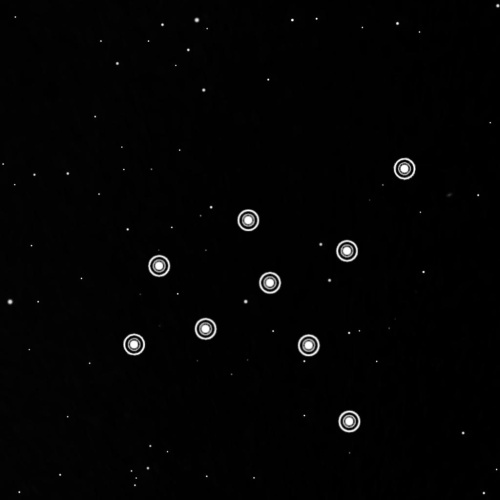cygnus: (120, 150, 422, 435)
